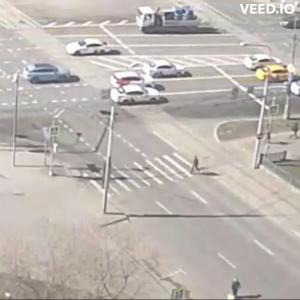car: (138, 7, 203, 36), (111, 70, 149, 104), (113, 87, 167, 107), (29, 63, 75, 85), (255, 63, 290, 84), (67, 42, 105, 58), (152, 65, 192, 80), (245, 56, 273, 72), (144, 82, 167, 96), (280, 16, 300, 31)
